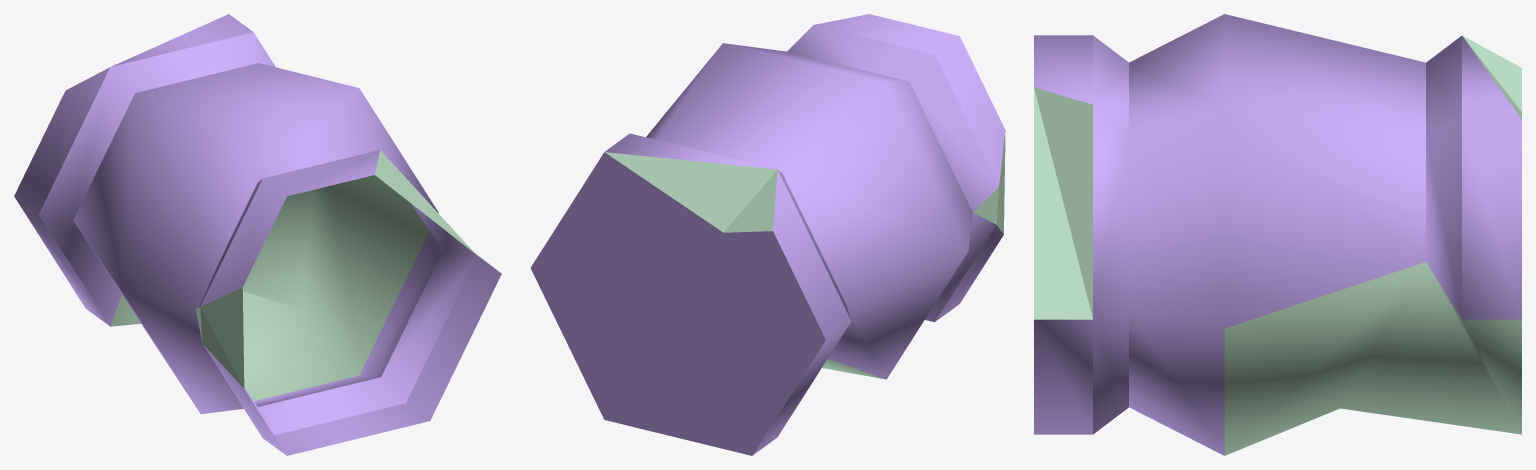
3 renders of one model, left to right at view 1: azimuth 30°, elevation 25°; view 2: azimuth 150°, elevation 25°; view 3: azimuth 270°, elevation 25°, orthographic. The views are drawn at different scales.
Visible parts, largest first — view 1: Object30; view 2: Object30; view 3: Object30.
Part boxes in pixels (box(x1,y1,x2,y2)): Object30: box(14, 14, 501, 455); Object30: box(530, 14, 1005, 455); Object30: box(1034, 14, 1521, 455).
Bounding box in the file's own units: 8680 × 7517 × 9543.
